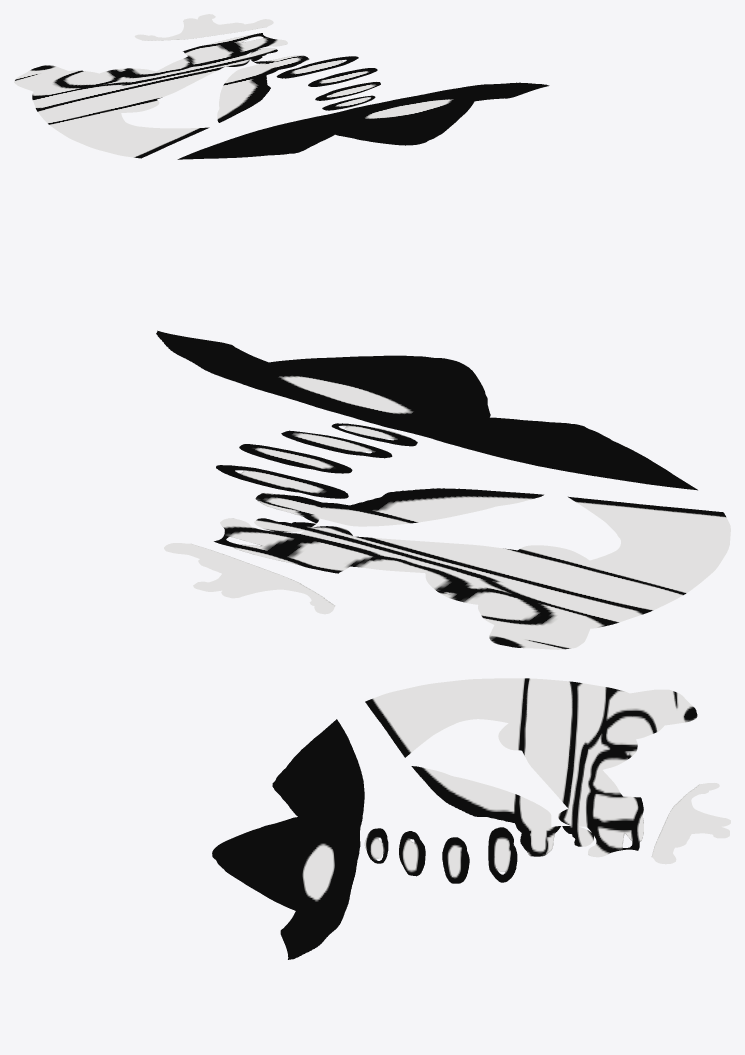
The model's file is Shooting 4.fbx.
The picture shows the model from 3 angles, top to bottom: view 1: azimuth 30°, elevation 25°; view 2: azimuth 150°, elevation 25°; view 3: azimuth 270°, elevation 25°; orthographic projection. The views are drawn at different scales.
Visible parts, largest first — view 1: Curve.004; view 2: Curve.004; view 3: Curve.004.
Part boxes in pixels (<box>): Curve.004: <box>14,14,549,159</box>; Curve.004: <box>156,330,730,649</box>; Curve.004: <box>212,678,730,959</box>.
Size of the model in its own units: 110 by 0 by 92.27.
